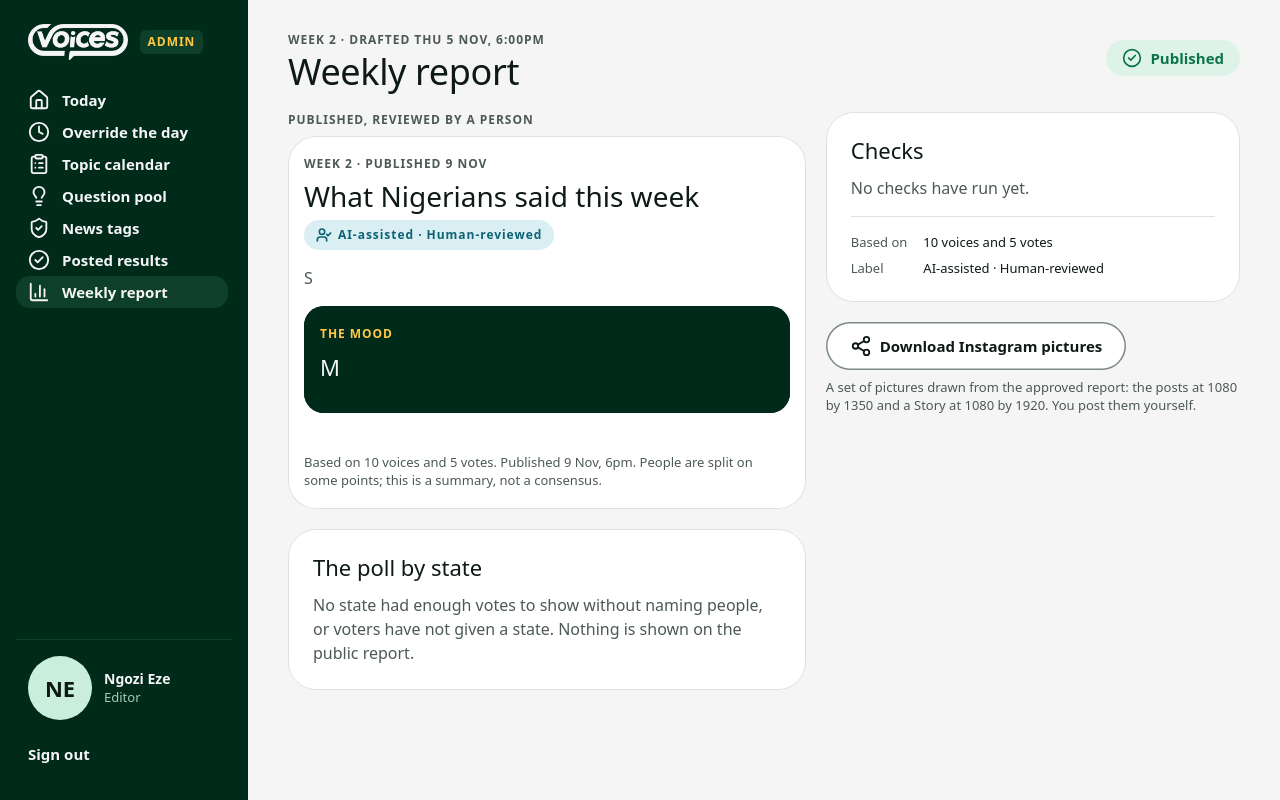
Test case: LCH-13: Download Instagram pictures › is on a published report, asks for the zip with the token, and says nothing was posted
Click the button "Download Instagram pictures". click: (976,346)
box: x1=826 y1=322 x2=1126 y2=370
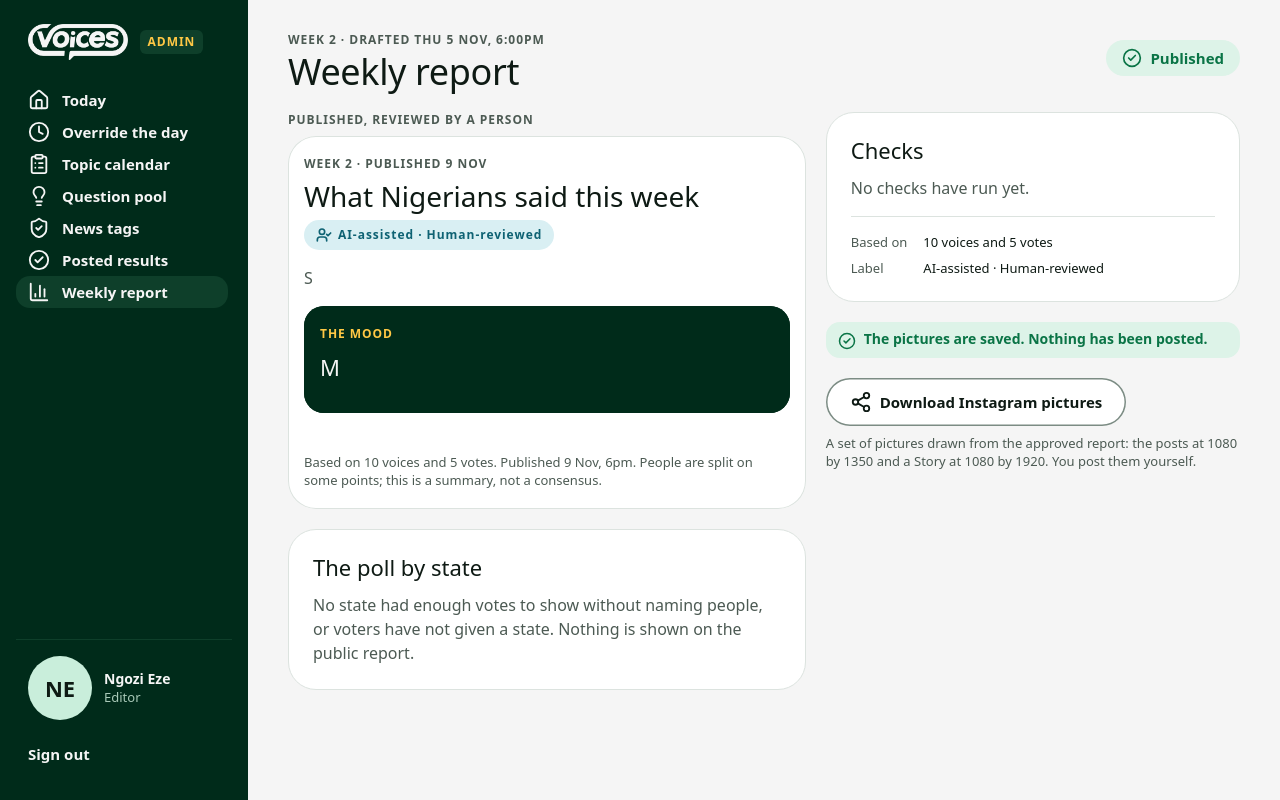
Check: the text "The pictures are saved. Nothing has been posted." is shown, box x1=864 y1=330 x2=1208 y2=348
